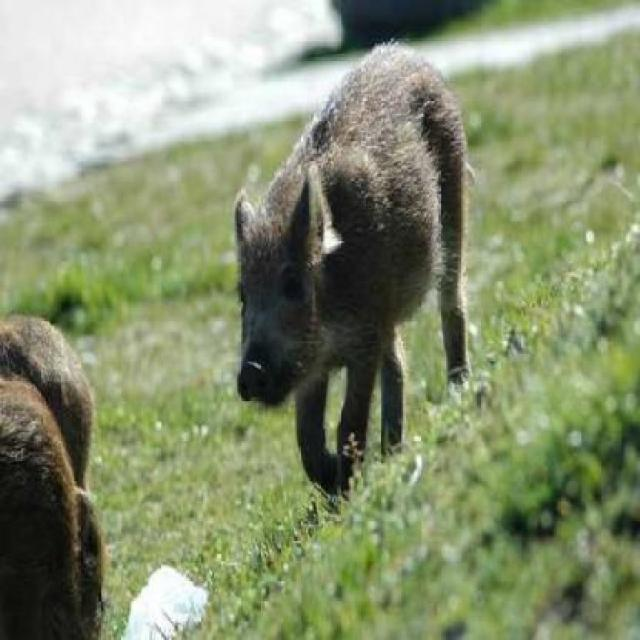pig: (203, 48, 555, 480)
